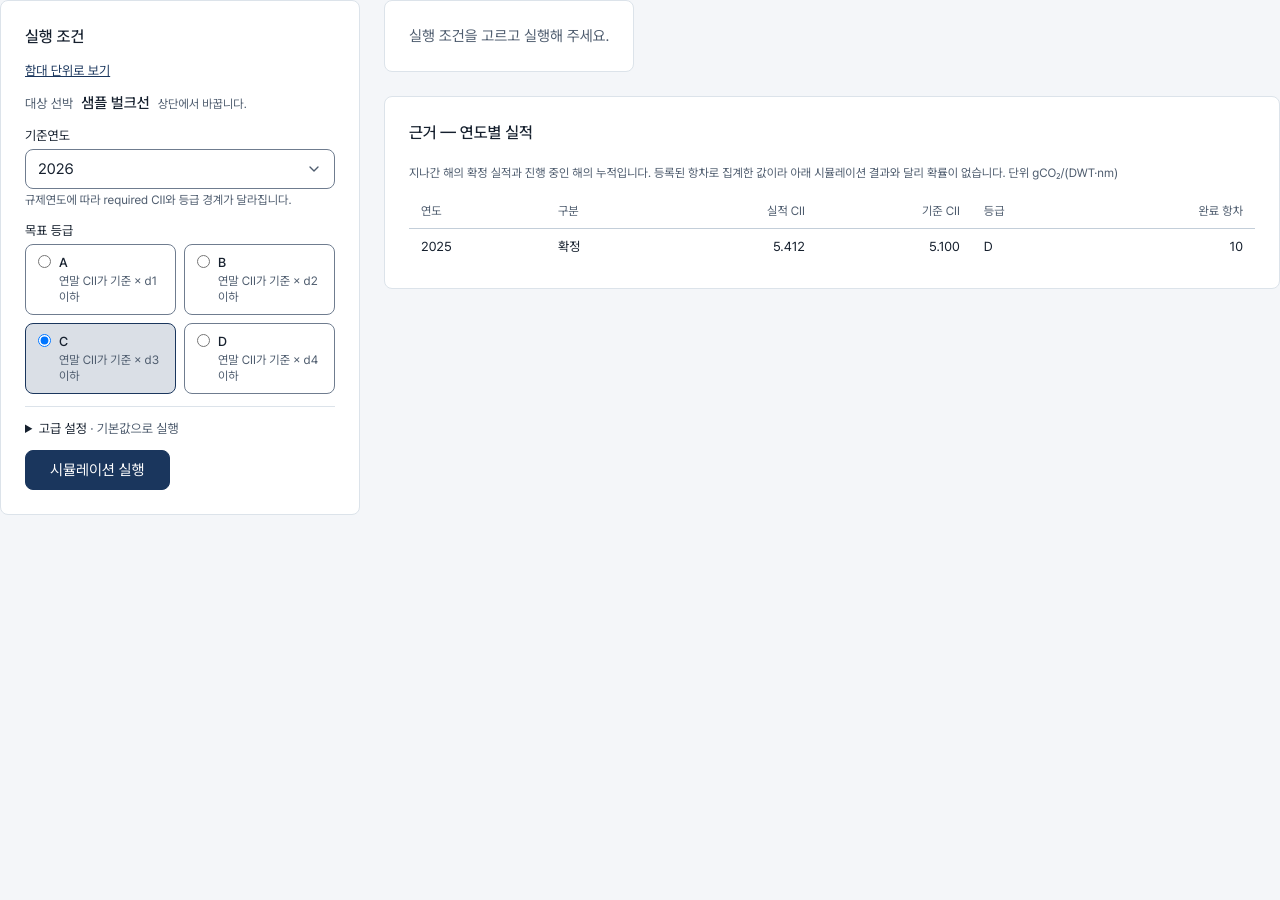
민감도 — 거리 행의 이유 (#756) › 잔여 계획이 있으면 표와 서버 설명을 그대로 둔다 (#1580)
This screenshot has width=1280, height=900.
Step 1. Click the button "시뮬레이션 실행" → (97, 470), box [25, 450, 170, 490]
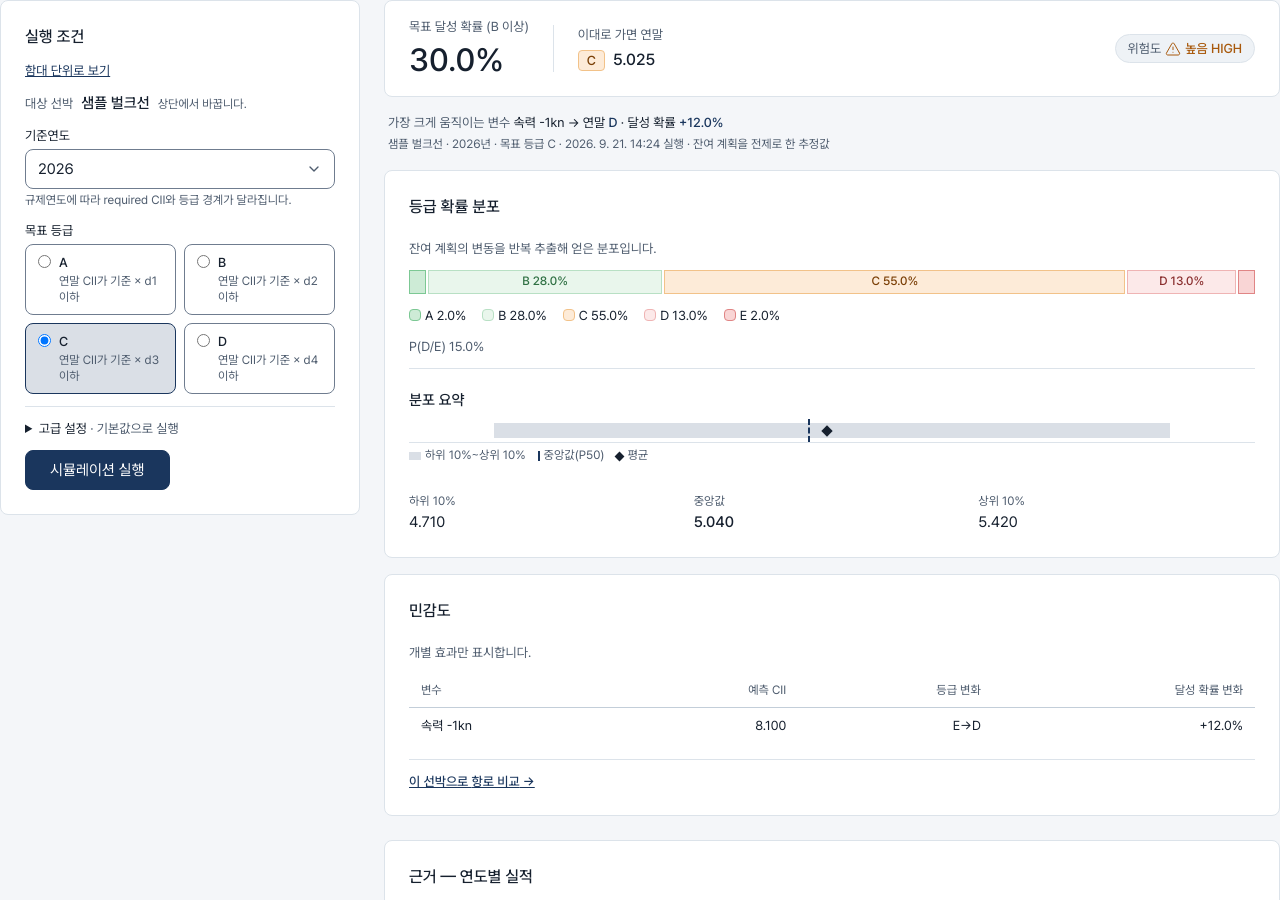
Result: the table is shown at [409, 674, 1255, 743]
Result: the text "개별 효과만 표시합니다." is shown at [409, 645, 531, 660]
